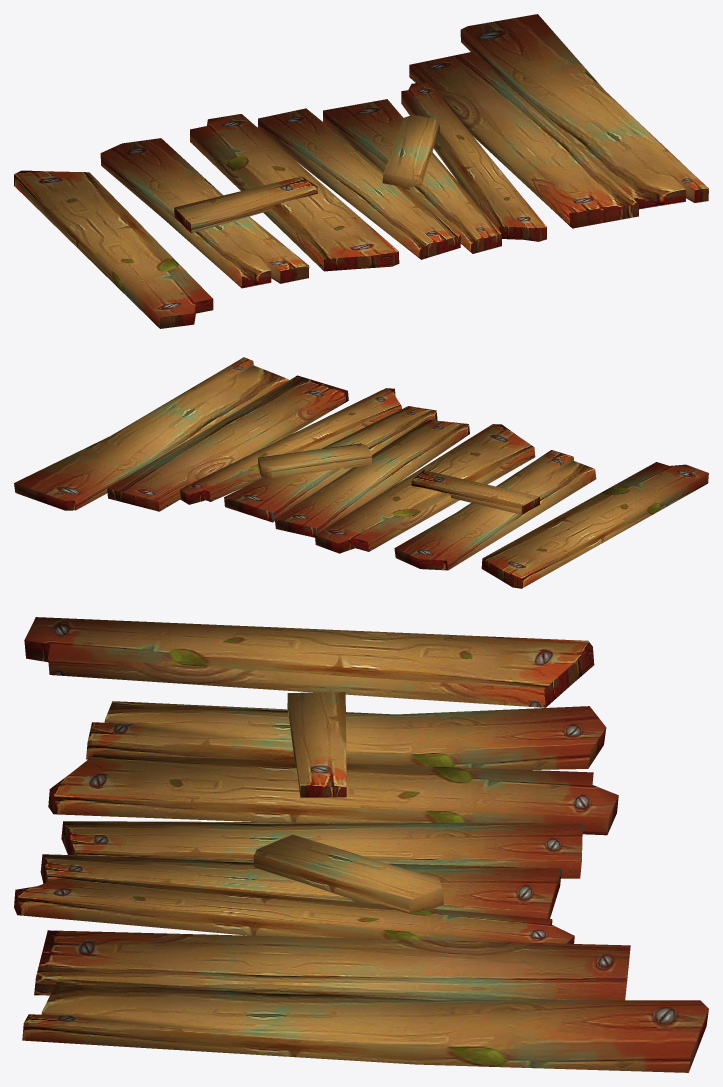
The model's file is muban02.FBX.
3 renders of one model, top to bottom at view 1: azimuth 30°, elevation 25°; view 2: azimuth 150°, elevation 25°; view 3: azimuth 270°, elevation 25°, orthographic. The views are drawn at different scales.
Parts seen in each view (by area): view 1: Object024; view 2: Object024; view 3: Object024.
Boxes of the visible parts, x1,y1,x2,y2 form: Object024: (14,14,708,328); Object024: (14,357,708,588); Object024: (14,617,708,1072).
Size of the model in its own units: 32594 by 1661 by 21743.
